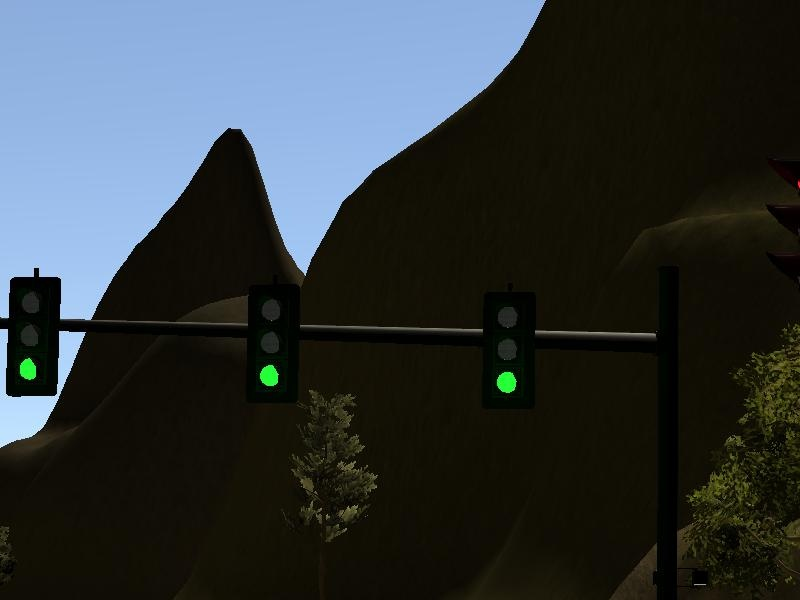GREEN: (4, 277, 59, 396), (246, 282, 301, 401), (480, 292, 535, 411)
